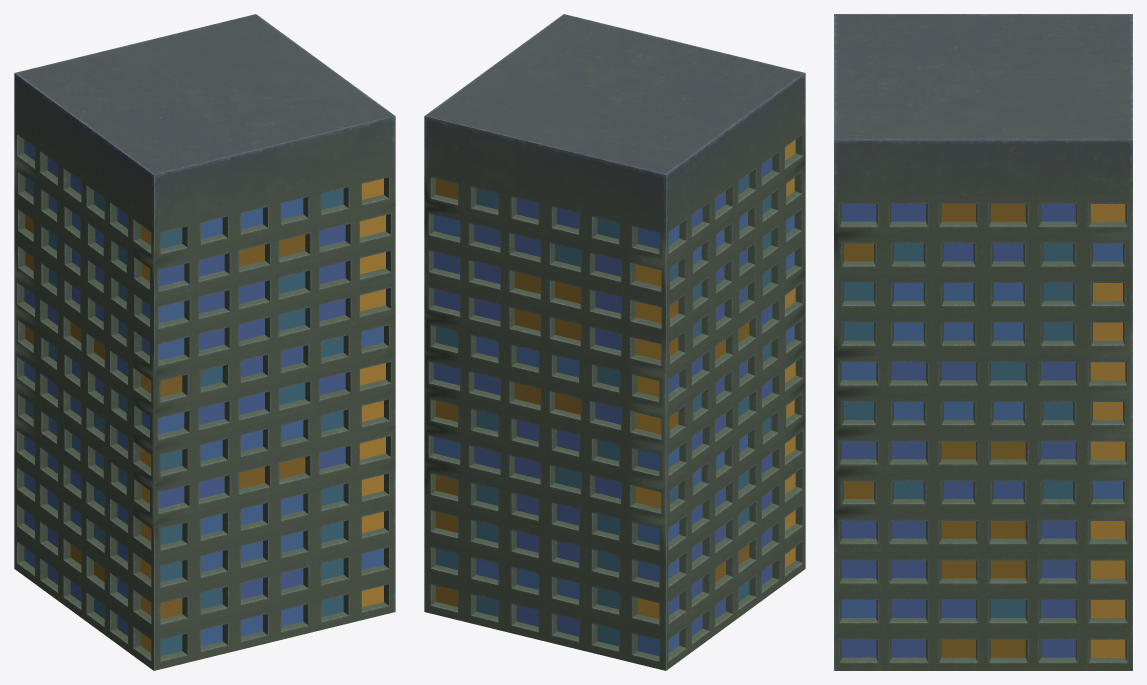
Rendered from Building_A.fbx.
The picture shows the model from 3 angles, left to right: view 1: azimuth 30°, elevation 25°; view 2: azimuth 150°, elevation 25°; view 3: azimuth 270°, elevation 25°; orthographic projection. The views are drawn at different scales.
Parts seen in each view (by area): view 1: Building_A; view 2: Building_A; view 3: Building_A.
Boxes of the visible parts, <box> form: Building_A: <box>14,14,395,670</box>; Building_A: <box>424,14,805,670</box>; Building_A: <box>834,14,1132,670</box>.
Bounding box in the file's own units: 322 × 631 × 322.
